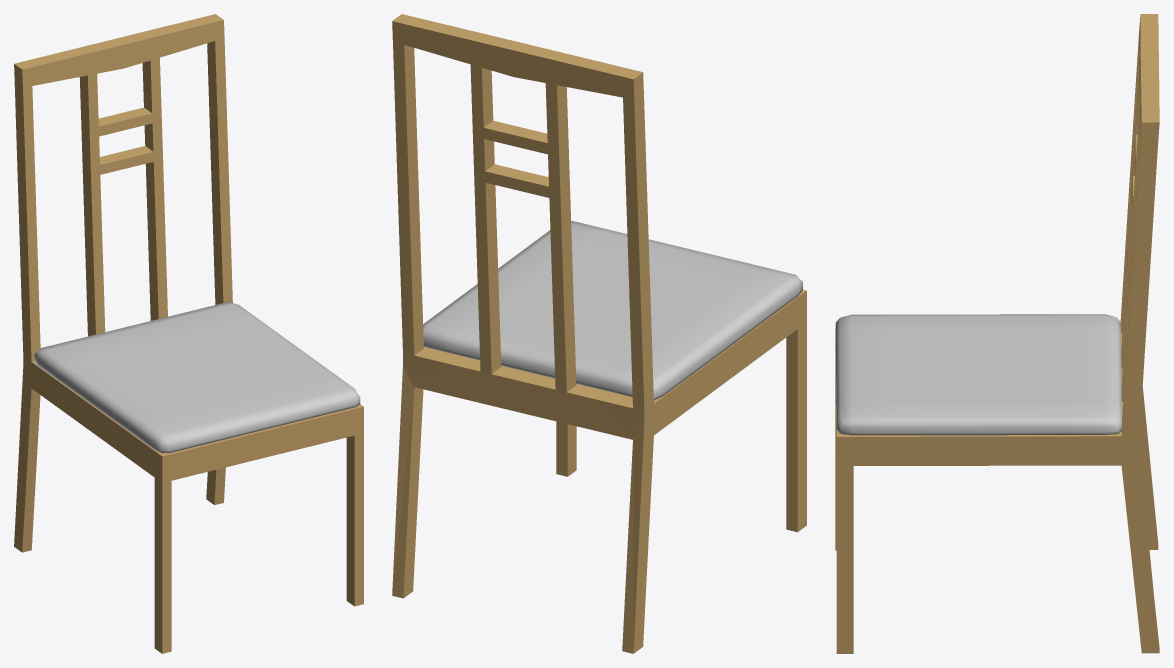
The model's file is IKEA-Borje_Chair-3D.obj.
The picture shows the model from 3 angles, left to right: view 1: azimuth 30°, elevation 25°; view 2: azimuth 150°, elevation 25°; view 3: azimuth 270°, elevation 25°; orthographic projection. The views are drawn at different scales.
Visible parts, largest first — view 1: Box01, Box02; view 2: Box01, Box02; view 3: Box02, Box01.
Boxes of the visible parts, x1,y1,x2,y2 form: Box01: (14,14,363,653); Box02: (34,302,360,453); Box01: (392,14,806,653); Box02: (423,221,802,400); Box02: (835,314,1121,435); Box01: (835,14,1159,653).
Size of the model in its own units: 1129 by 2549 by 1412.
